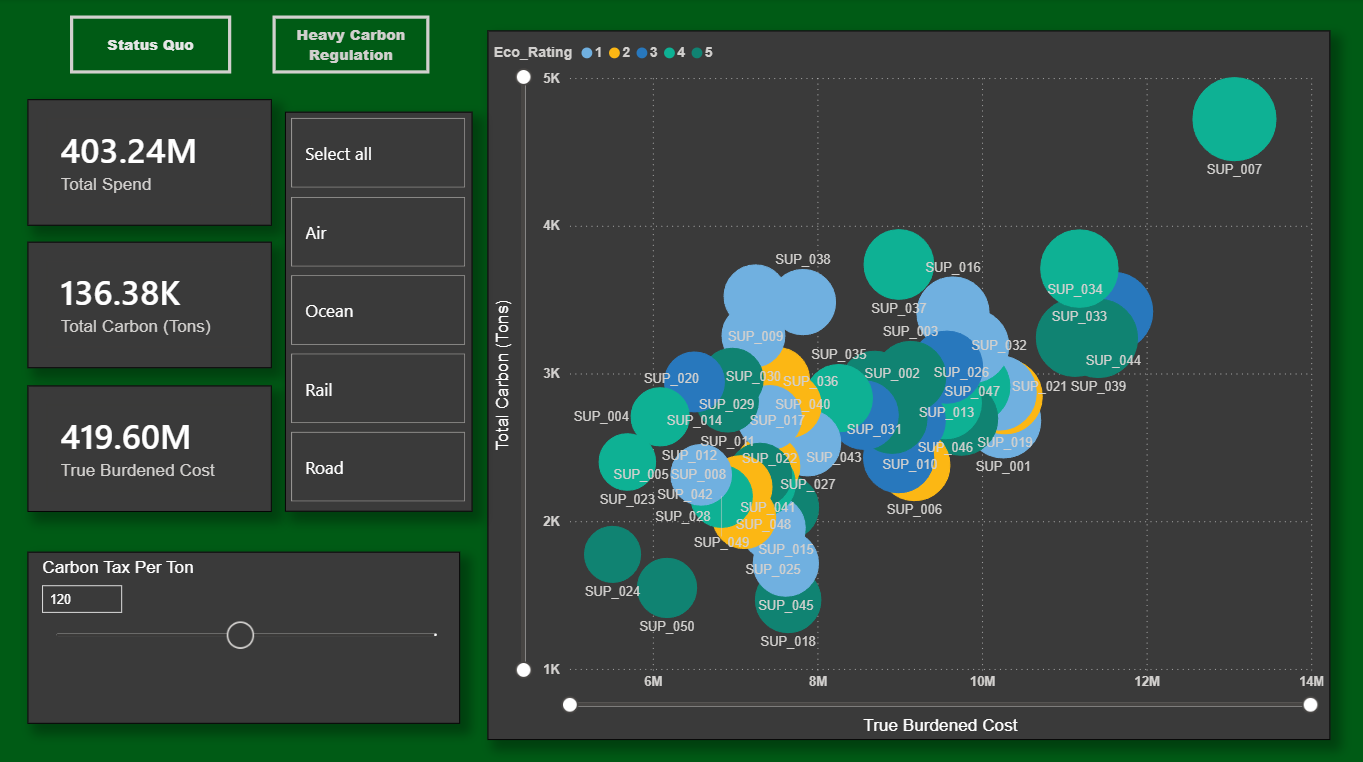

The page's visual inventory and layout, read from the dashboard file:
{"tool":"powerbi","page":{"name":"Page 1","canvas":[1280,720],"ordinal":0},"visuals":[{"type":"slicer","fields":{"Values":["Carbon Tax Per Ton.Carbon Tax Per Ton"]},"box":[30,515,402.5,160],"z":0},{"type":"cardVisual","fields":{"Data":["_Measures.Total Spend"]},"box":[29.8,94.3,227.2,117.9],"z":1000},{"type":"scatterChart","fields":{"Category":["suppliers.Supplier_ID"],"X":["_Measures.True Burdened Cost"],"Y":["_Measures.Total Carbon (Tons)"],"Size":["_Measures.Total Spend"],"Series":["suppliers.Eco_Rating"]},"box":[458,30,784,660],"z":2000},{"type":"cardVisual","fields":{"Data":["_Measures.True Burdened Cost"]},"box":[30,360,227.5,117.5],"z":3000},{"type":"cardVisual","fields":{"Data":["_Measures.Total Carbon (Tons)"]},"box":[29.8,227.2,227.2,117.9],"z":4000},{"type":"actionButton","box":[70,16,150,54],"z":5000},{"type":"actionButton","box":[258,16,146,54],"z":6000},{"type":"advancedSlicerVisual","fields":{"Values":["shipments.Transport_Mode"]},"box":[270,106,174,372],"z":7000}]}

Visuals, with their boxes in screenshot pixels (x1, y1, x2, y2), scaled from the page's 1280x720 canvas onto the 1363x762 screenshot:
slicer - Carbon Tax Per Ton.Carbon Tax Per Ton: (32, 545, 461, 714)
cardVisual - _Measures.Total Spend: (32, 100, 274, 225)
scatterChart - suppliers.Supplier_ID x _Measures.True Burdened Cost: (488, 32, 1323, 730)
cardVisual - _Measures.True Burdened Cost: (32, 381, 274, 505)
cardVisual - _Measures.Total Carbon (Tons): (32, 240, 274, 365)
actionButton: (75, 17, 234, 74)
actionButton: (275, 17, 430, 74)
advancedSlicerVisual - shipments.Transport_Mode: (288, 112, 473, 506)
